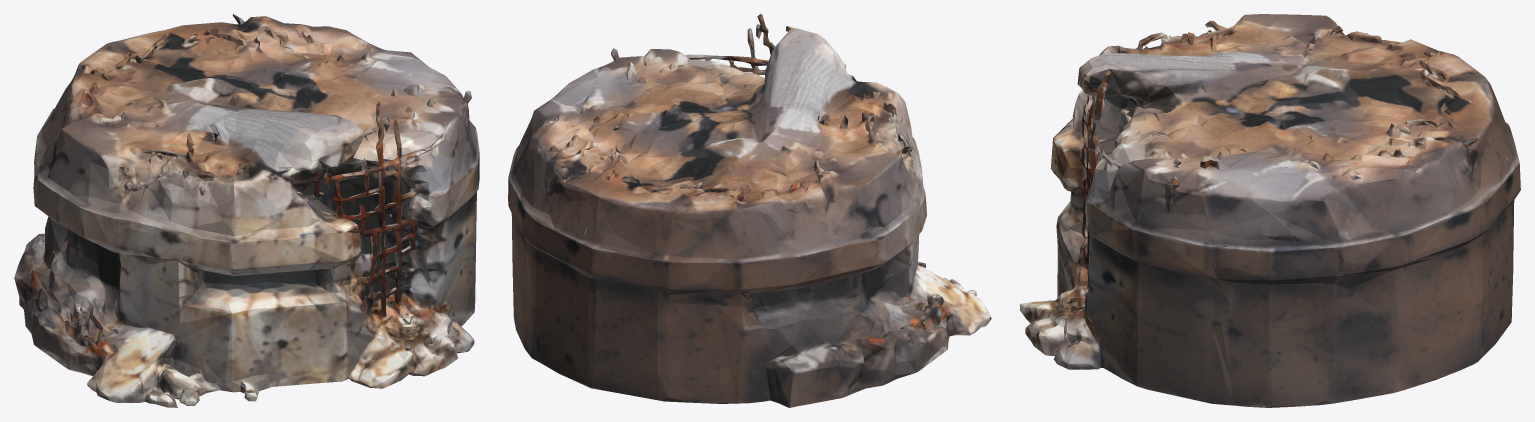
Rendered from war_bunker_1117.glb.
3 renders of one model, left to right at view 1: azimuth 30°, elevation 25°; view 2: azimuth 150°, elevation 25°; view 3: azimuth 270°, elevation 25°, orthographic. The views are drawn at different scales.
Visible parts, largest first — view 1: tmp62lj7mon.ply; view 2: tmp62lj7mon.ply; view 3: tmp62lj7mon.ply.
Boxes of the visible parts, box(x1,y1,x2,y2) form: tmp62lj7mon.ply: box(14, 14, 479, 407); tmp62lj7mon.ply: box(508, 14, 991, 407); tmp62lj7mon.ply: box(1020, 14, 1520, 407).
Size of the model in its own units: 1.99 by 1.15 by 1.99.
Materials: 1 (1 with a texture image).
